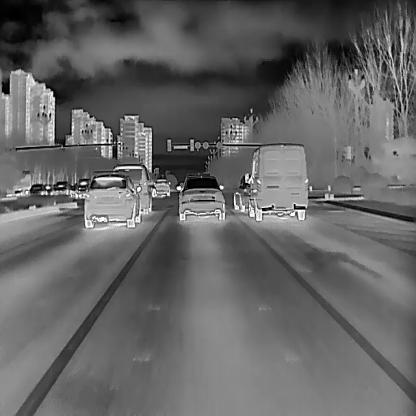car: (243, 141, 308, 221), (82, 172, 142, 228), (174, 172, 226, 219), (112, 162, 153, 213), (232, 170, 252, 212), (151, 177, 171, 197), (51, 180, 72, 195), (26, 182, 47, 196)
truck: (76, 176, 92, 198)
